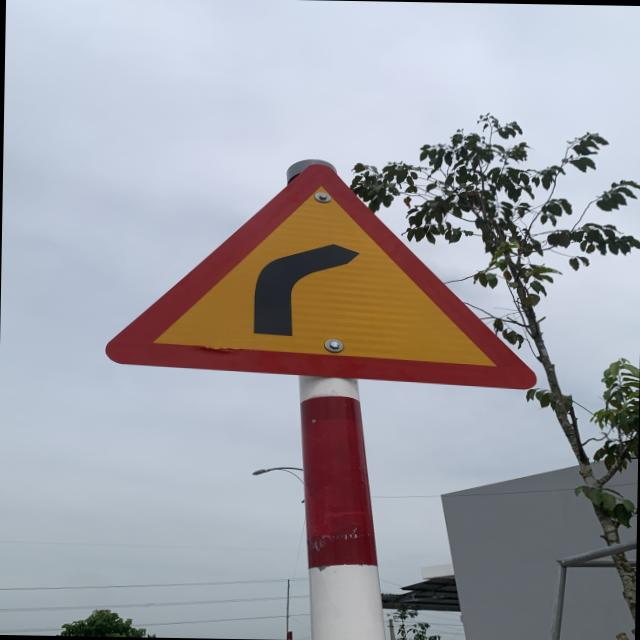Duong_Nguoi_Di_Bo_Cat_Ngang: (102, 162, 540, 390)
